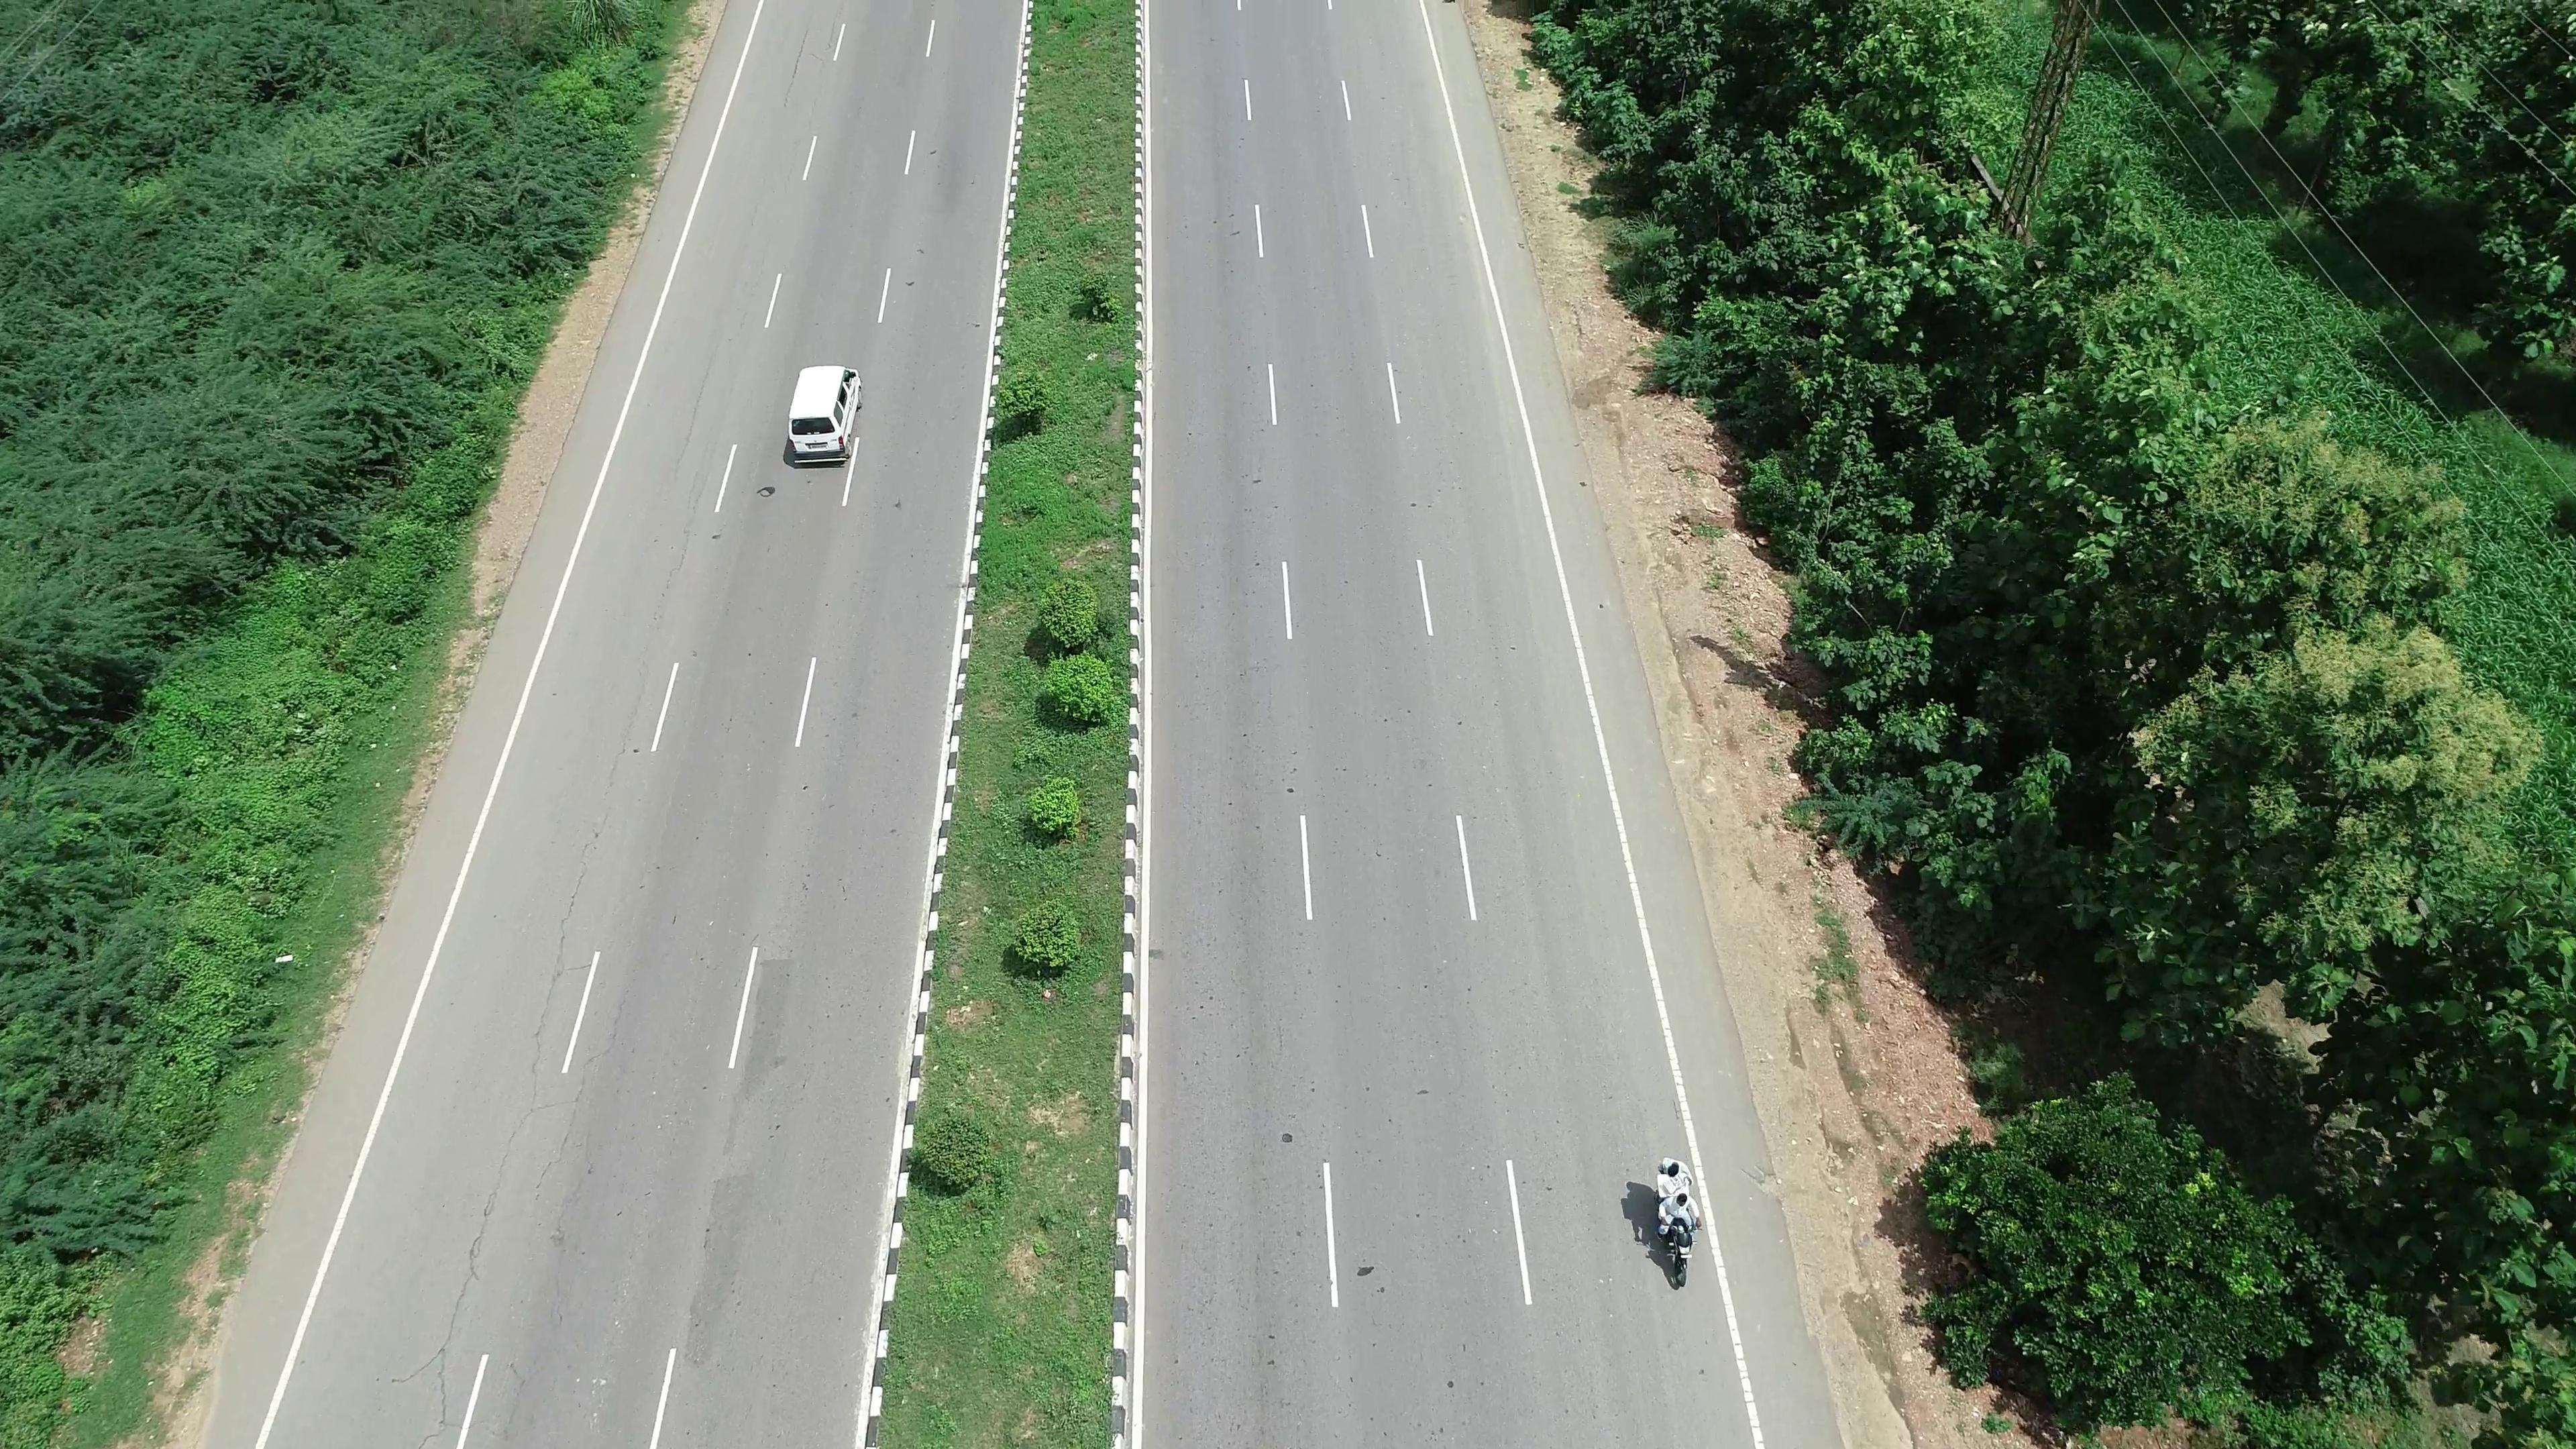Ravelling: (441, 1016, 556, 1330), (552, 747, 626, 973), (644, 460, 702, 598)
